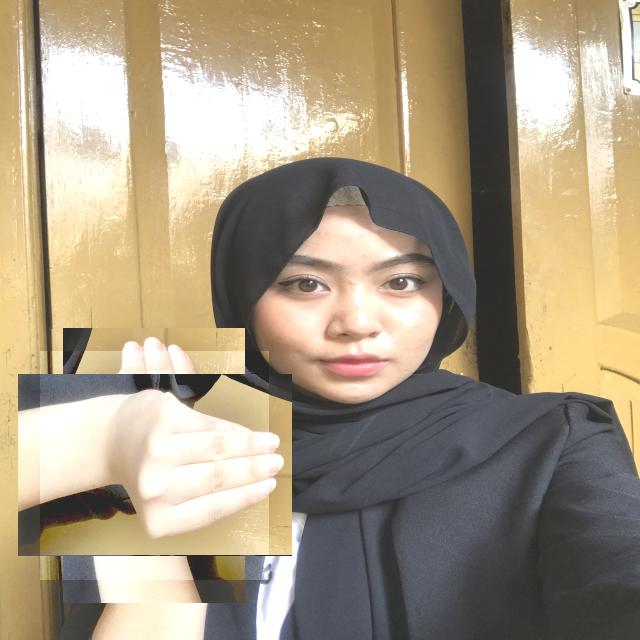kapan: (40, 351, 269, 580)
